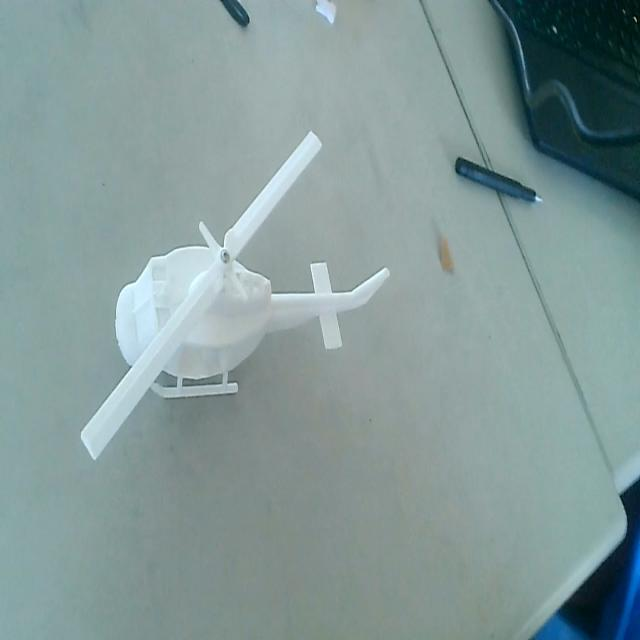Helicopter: (79, 124, 393, 470)
